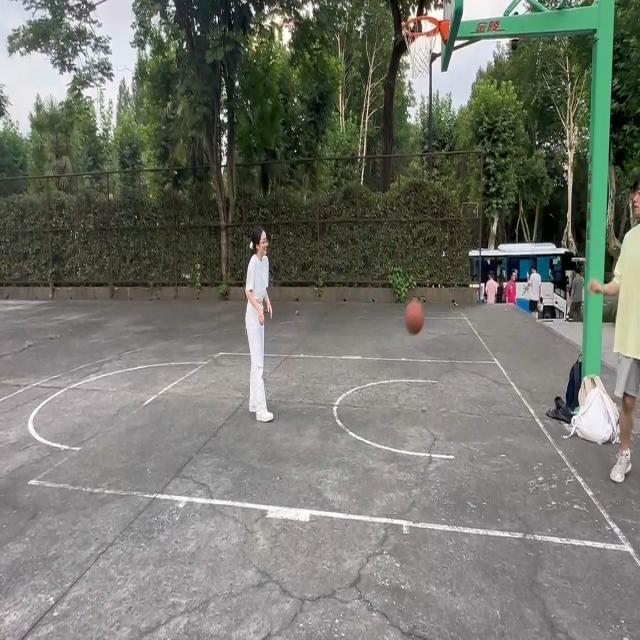basketball: (402, 12, 453, 93)
rim: (407, 300, 426, 335)
